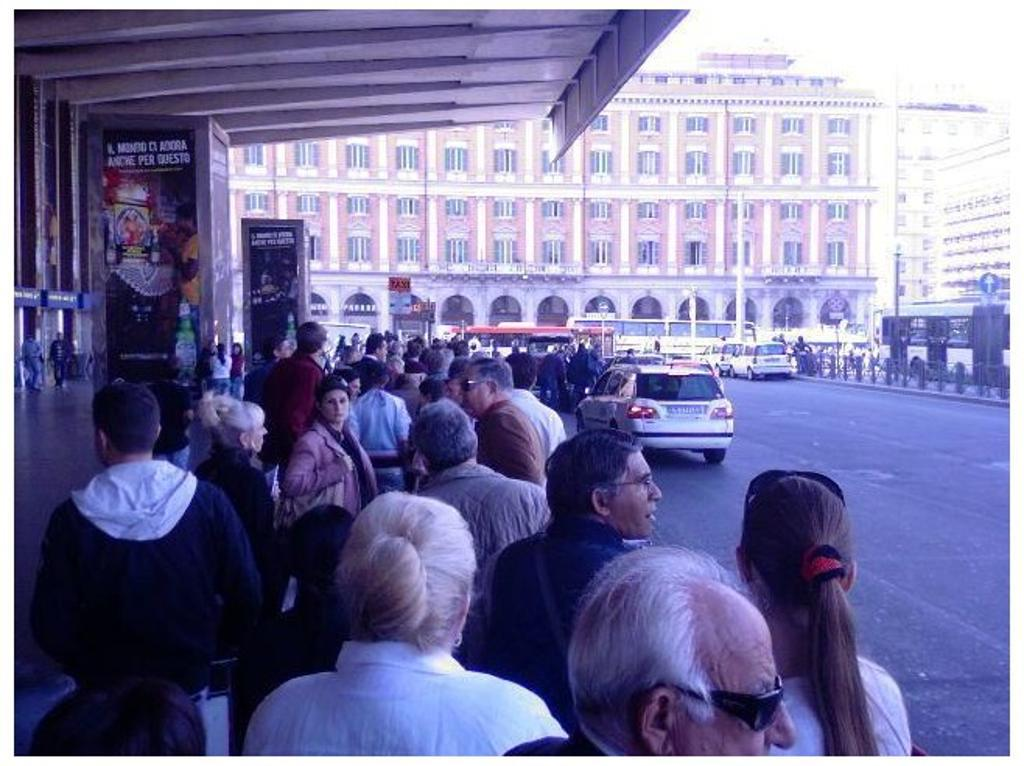face: (685, 620, 794, 755), (611, 458, 663, 538), (461, 370, 491, 413), (241, 414, 270, 453), (325, 389, 349, 421), (445, 382, 465, 408), (347, 381, 362, 401), (174, 211, 188, 232), (420, 390, 433, 407), (279, 339, 290, 358), (381, 340, 388, 360), (413, 343, 422, 355), (234, 346, 239, 355), (57, 333, 61, 341)
